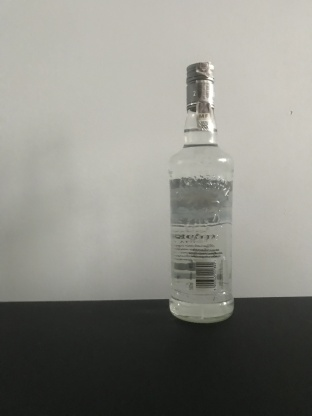nakretka: (184, 60, 216, 112)
